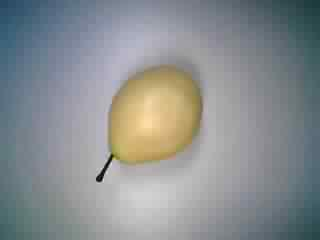pear: (89, 61, 211, 185)
